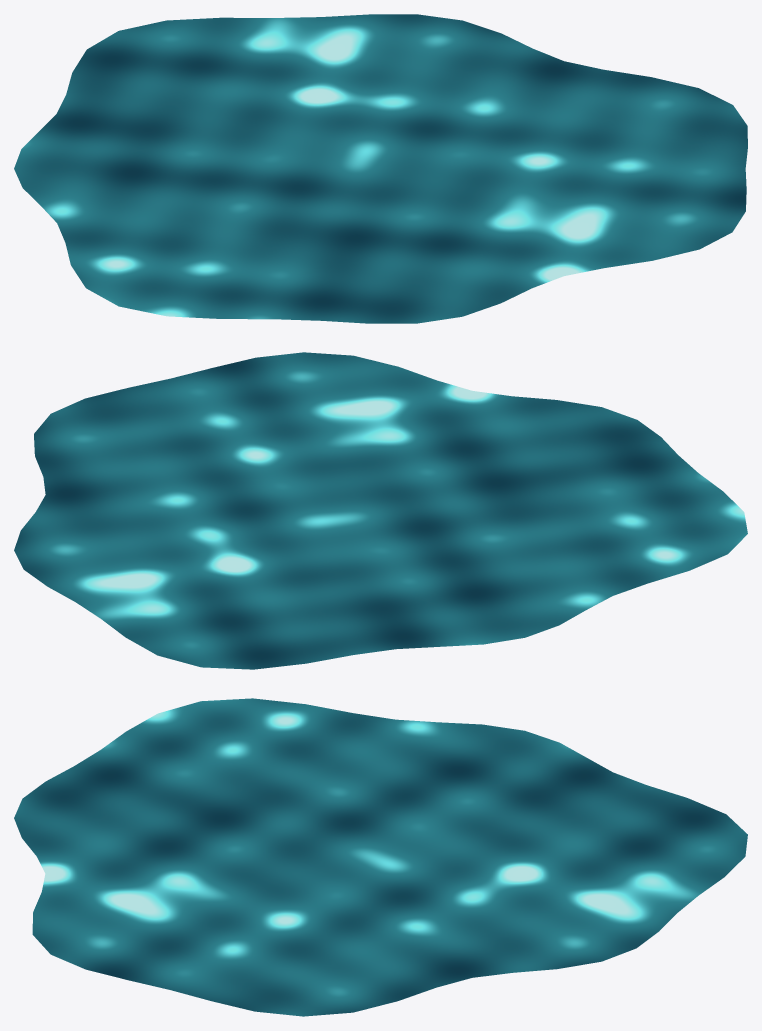
Rendered from xen_charco.obj.
3 renders of one model, top to bottom at view 1: azimuth 30°, elevation 25°; view 2: azimuth 150°, elevation 25°; view 3: azimuth 270°, elevation 25°, orthographic. The views are drawn at different scales.
Visible parts, largest first — view 1: xen_charco; view 2: xen_charco; view 3: xen_charco.
Part boxes in pixels (box(x1,y1,x2,y2)): xen_charco: box(14, 14, 747, 323); xen_charco: box(14, 352, 747, 669); xen_charco: box(14, 698, 747, 1016).
Size of the model in its own units: 2.12 by 0 by 2.07.
